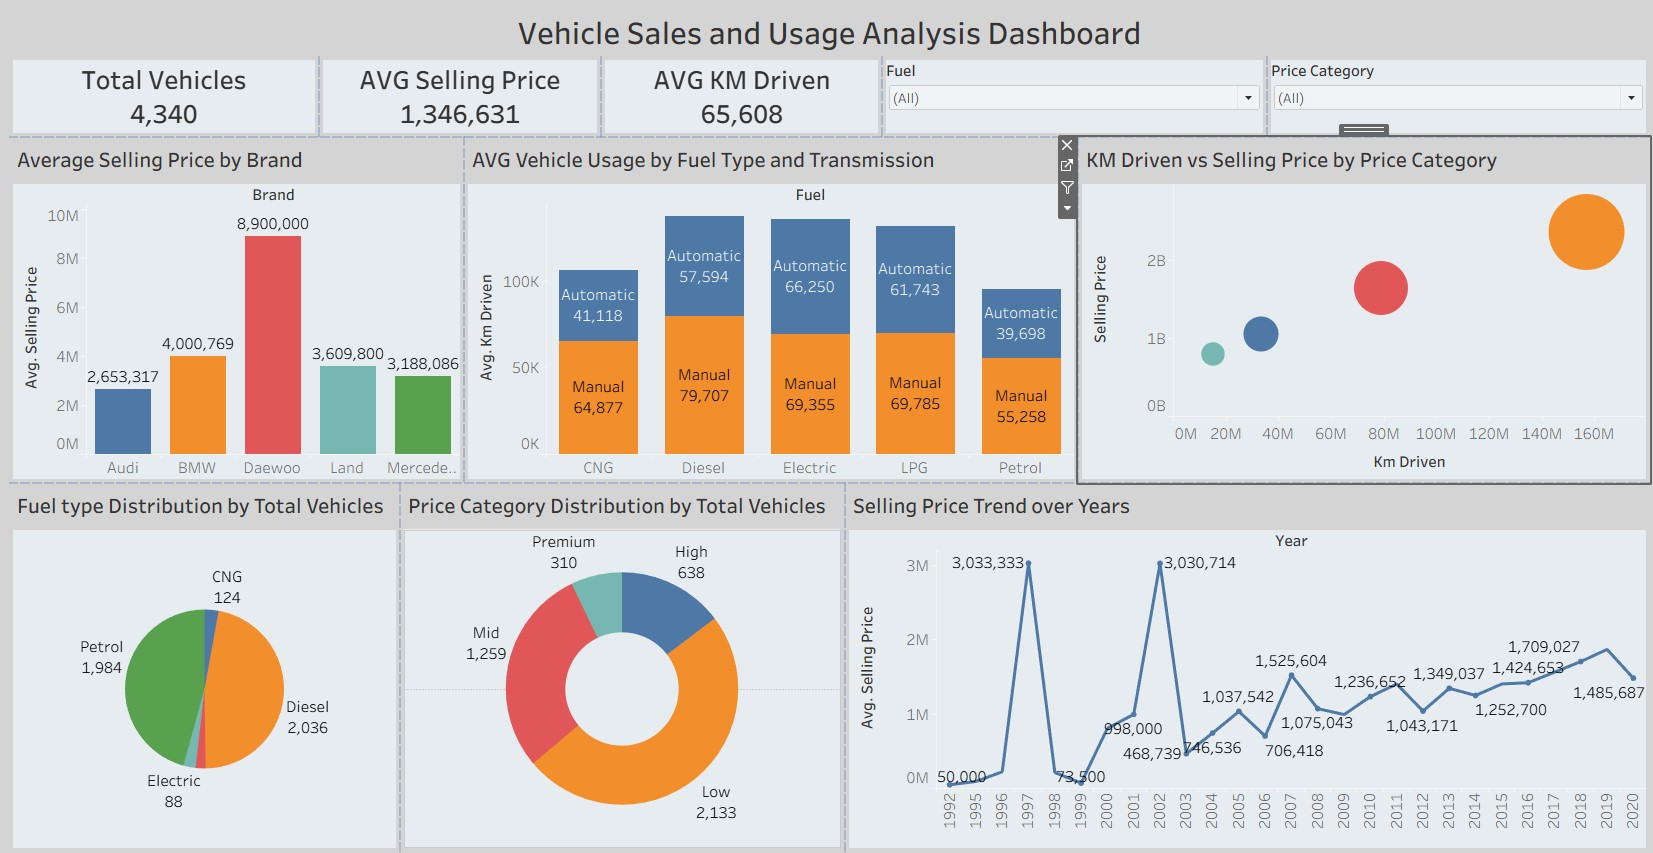

What the dashboard file says about the page in this screenshot:
{"tool":"tableau","page":{"name":"Dashboard 1","canvas":[1000,1000],"units":"permille","ordinal":0},"visuals":[{"type":"title","box":[4.8,9.3,990.3,56.9]},{"type":"worksheet","title":"Total Vehicle KPI","mark":"Automatic","box":[4.8,66.2,187.1,94]},{"type":"worksheet","title":"AVG Selling Price KPI","mark":"Automatic","box":[191.9,66.2,170,94]},{"type":"worksheet","title":"AVG KM Driven KPI","mark":"Automatic","box":[361.9,66.2,170,94]},{"type":"filter","title":"KM Driven vs Selling Price by Price Category","param":"[federated.1ckdq2f065wp1j10g8vcx1cvw47s].[none:fuel:nk]","box":[531.8,66.2,232.2,94]},{"type":"filter","title":"KM Driven vs Selling Price by Price Category","param":"[federated.1ckdq2f065wp1j10g8vcx1cvw47s].[none:price_category:nk]","box":[764.1,66.2,231.1,94]},{"type":"worksheet","title":"Average Selling Price by Brand","mark":"Automatic","rows":["selling_price"],"cols":["brand"],"box":[4.8,160.2,274.6,401.5]},{"type":"worksheet","title":"AVG Vehicle Usage by Fuel Type and Transmission","mark":"Automatic","rows":["km_driven"],"cols":["fuel"],"box":[279.4,160.2,370.6,401.5]},{"type":"worksheet","title":"KM Driven vs Selling Price by Price Category","mark":"Automatic","rows":["selling_price"],"cols":["km_driven"],"box":[650,160.2,345.2,401.5]},{"type":"worksheet","title":"Fuel type Distribution by Total Vehicles","mark":"Pie","box":[4.8,561.7,236,429]},{"type":"worksheet","title":"Price Category Distribution by Total Vehicles","mark":"Automatic","rows":["Calculation_985443944585453569","Calculation_985443944585469955"],"box":[240.8,561.7,268.6,429]},{"type":"worksheet","title":"Selling Price Trend over Years","mark":"Automatic","rows":["selling_price"],"cols":["year"],"box":[509.3,561.7,485.8,429]}]}

Visuals, with their boxes on the dashboard's canvas, which has no fixed pixel size, in thousandths of its width and height (x1, y1, x2, y2). These are canvas units, not pixel positions in the 1653x853 screenshot, which may show the page scaled, cropped or inside an application window:
title: <region>5, 9, 995, 66</region>
"Total Vehicle KPI" worksheet: <region>5, 66, 192, 160</region>
"AVG Selling Price KPI" worksheet: <region>192, 66, 362, 160</region>
"AVG KM Driven KPI" worksheet: <region>362, 66, 532, 160</region>
"KM Driven vs Selling Price by Price Category" filter: <region>532, 66, 764, 160</region>
"KM Driven vs Selling Price by Price Category" filter: <region>764, 66, 995, 160</region>
"Average Selling Price by Brand" worksheet: <region>5, 160, 279, 562</region>
"AVG Vehicle Usage by Fuel Type and Transmission" worksheet: <region>279, 160, 650, 562</region>
"KM Driven vs Selling Price by Price Category" worksheet: <region>650, 160, 995, 562</region>
"Fuel type Distribution by Total Vehicles" worksheet (Pie marks): <region>5, 562, 241, 991</region>
"Price Category Distribution by Total Vehicles" worksheet: <region>241, 562, 509, 991</region>
"Selling Price Trend over Years" worksheet: <region>509, 562, 995, 991</region>
